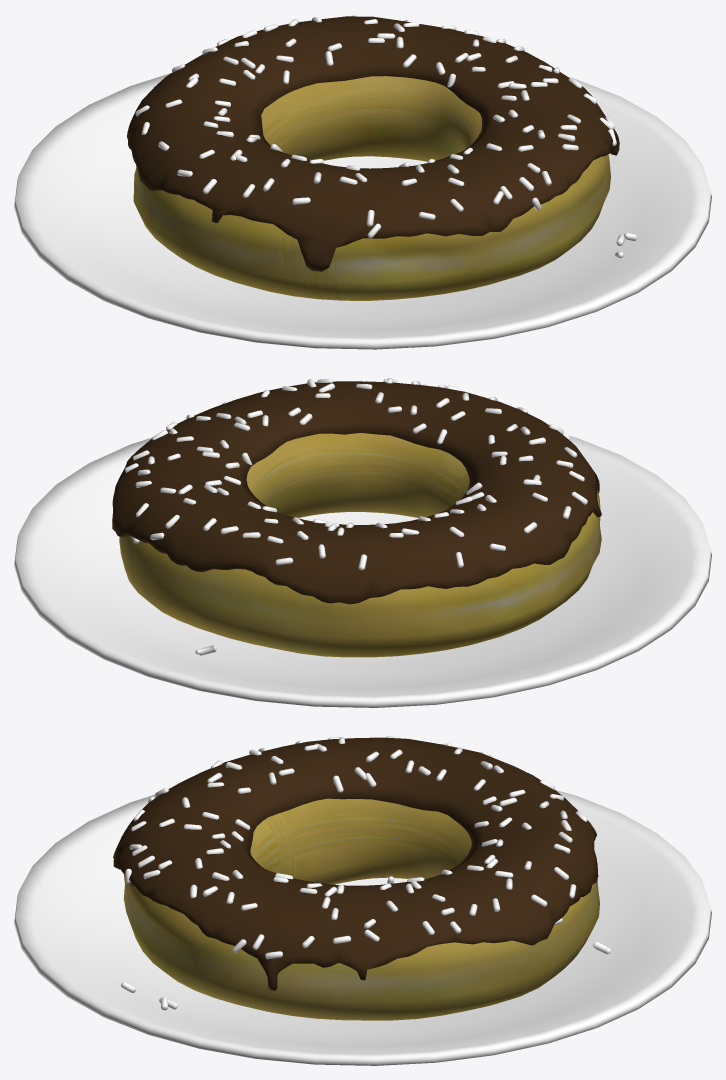
File: donut.e63c4a53.glb
3 views of the same model, one above another, from view 1: azimuth 30°, elevation 25°; view 2: azimuth 150°, elevation 25°; view 3: azimuth 270°, elevation 25° (orthographic).
Visible parts, largest first — view 1: do_plate, icing, donut.002; view 2: do_plate, icing, donut.002; view 3: icing, do_plate, donut.002.
Boxes of the visible parts, x1=… form: do_plate: x1=14, y1=73, x2=711, y2=349; icing: x1=127, y1=16, x2=619, y2=271; donut.002: x1=133, y1=76, x2=610, y2=300; do_plate: x1=14, y1=435, x2=711, y2=707; icing: x1=112, y1=381, x2=601, y2=604; donut.002: x1=119, y1=433, x2=601, y2=657; icing: x1=113, y1=737, x2=598, y2=990; do_plate: x1=14, y1=790, x2=711, y2=1065; donut.002: x1=123, y1=798, x2=599, y2=1020.
Size of the model in its own units: 0.1807 by 0.0451 by 0.1807.
4 materials, 1 textured.
